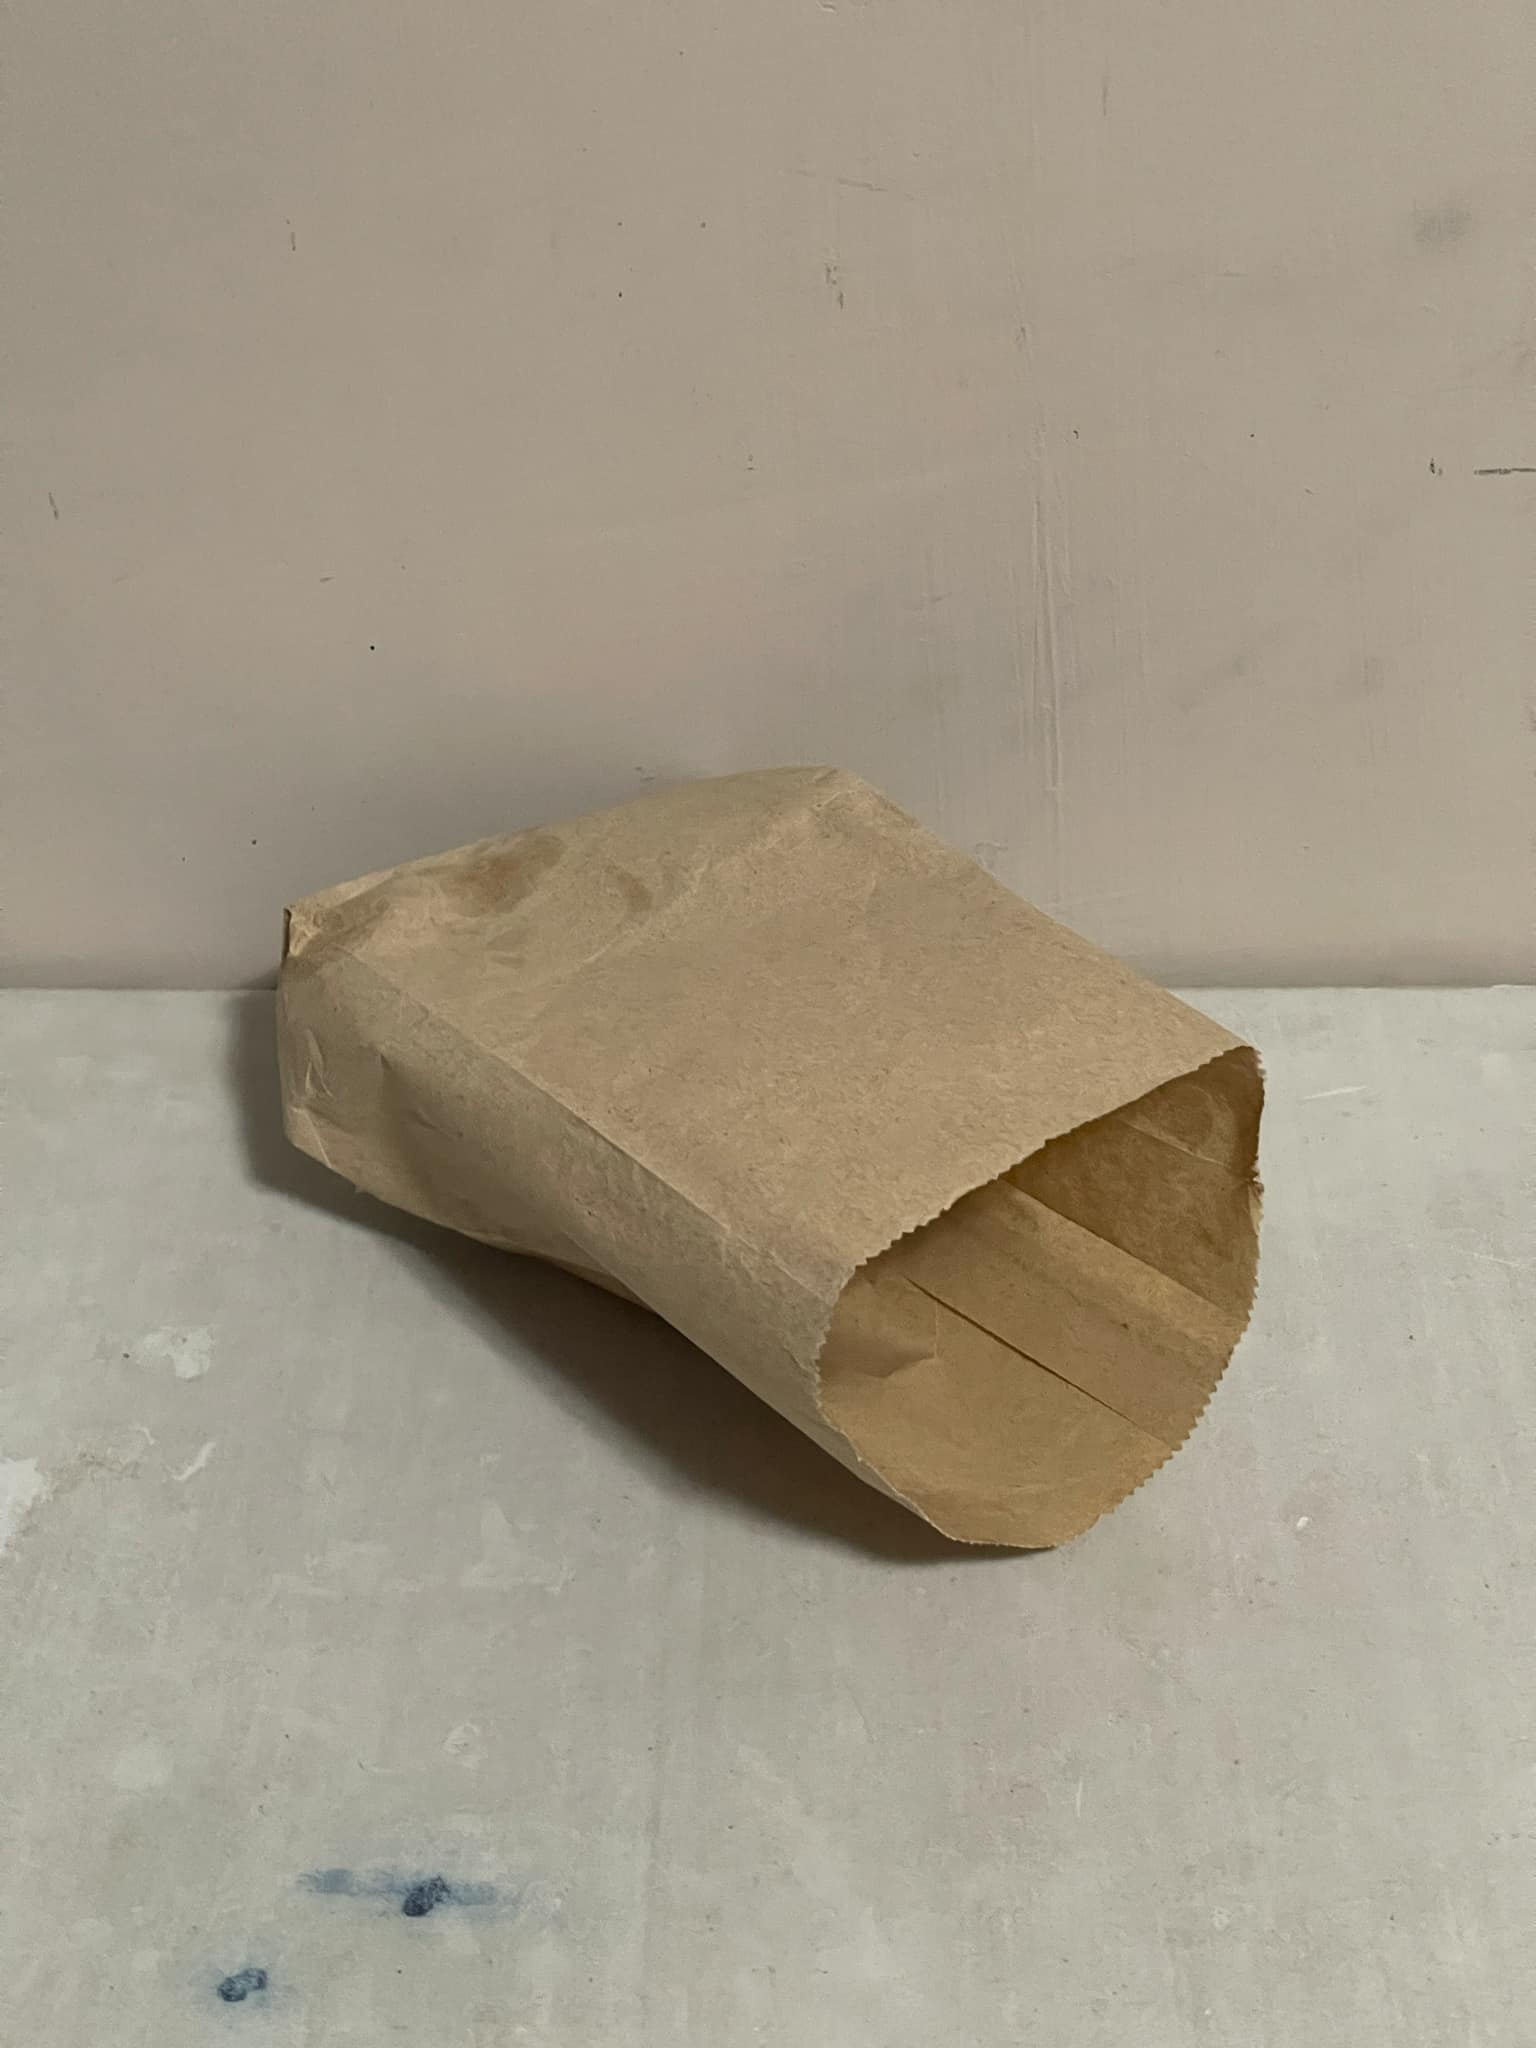Paper Food Packages: (174, 734, 1341, 1555)
